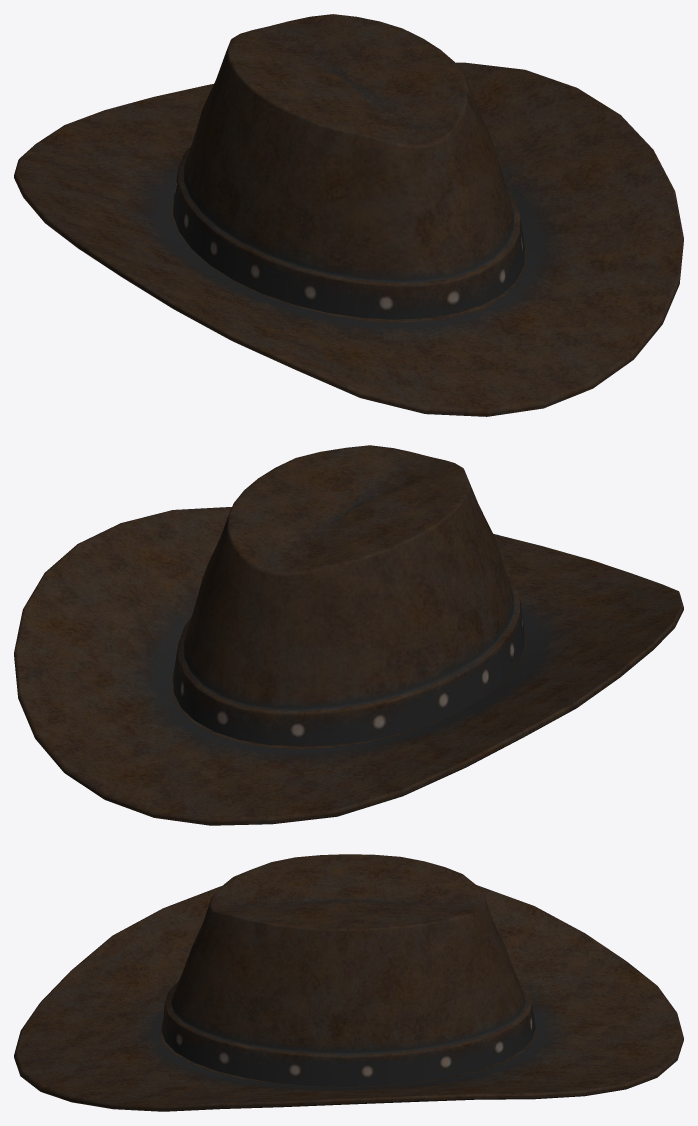
Rendered from cowboy_hat.glb.
The picture shows the model from 3 angles, top to bottom: view 1: azimuth 30°, elevation 25°; view 2: azimuth 150°, elevation 25°; view 3: azimuth 270°, elevation 25°; orthographic projection. The views are drawn at different scales.
Parts seen in each view (by area): view 1: cowboy_hat; view 2: cowboy_hat; view 3: cowboy_hat.
Part boxes in pixels (x1,y1,x2,y2): cowboy_hat: [14, 14, 683, 416]; cowboy_hat: [14, 445, 683, 825]; cowboy_hat: [14, 854, 683, 1111].
Size of the model in its own units: 1.89 by 0.6481 by 2.36.
Materials: 1 (1 with a texture image).
